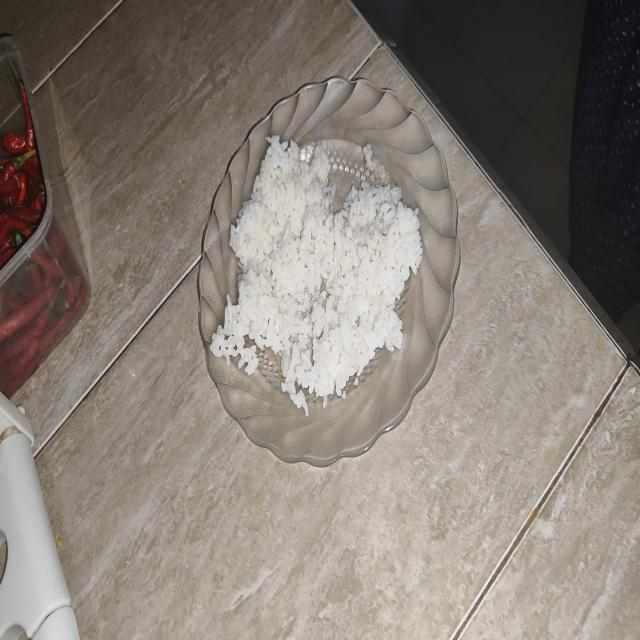nasi_putih: (210, 136, 422, 416)
